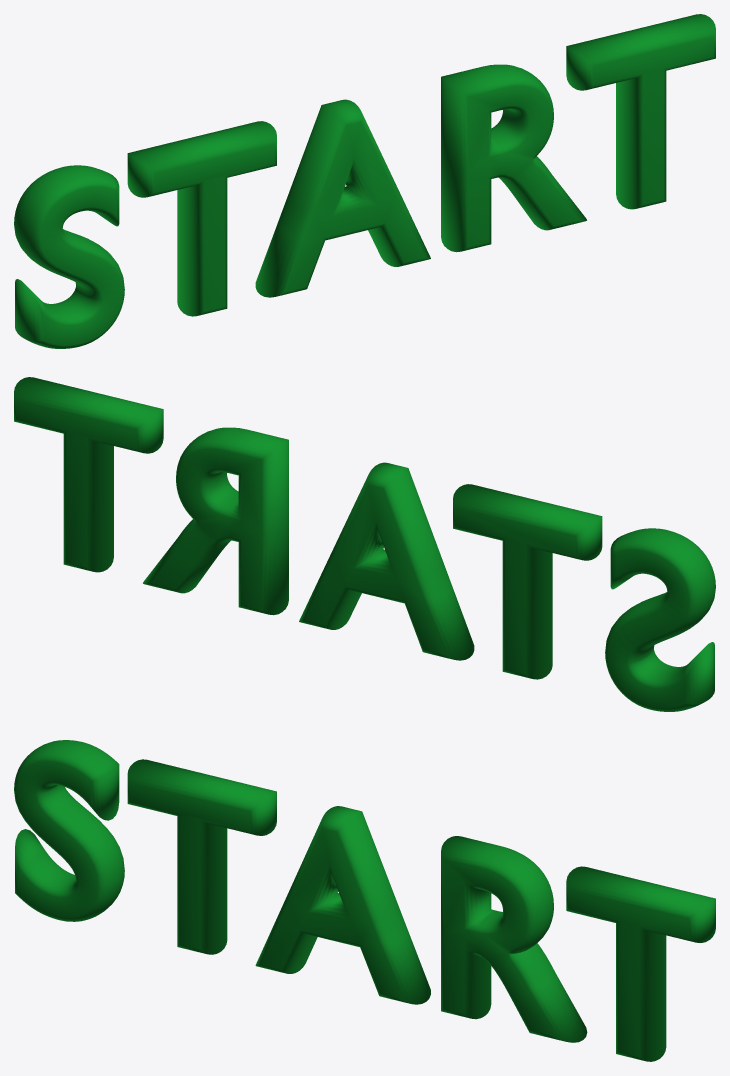
The model's file is Miscellaneous_START_01.fbx.
3 views of the same model, one above another, from view 1: azimuth 30°, elevation 25°; view 2: azimuth 150°, elevation 25°; view 3: azimuth 330°, elevation 25° (orthographic).
Parts seen in each view (by area): view 1: Text START; view 2: Text START; view 3: Text START.
Part boxes in pixels (left/top/right/bottom): Text START: left=14, top=14, right=715, bottom=348; Text START: left=14, top=377, right=715, bottom=711; Text START: left=14, top=740, right=715, bottom=1061.
Bounding box in the file's own units: 13.09 × 3.12 × 0.8.
